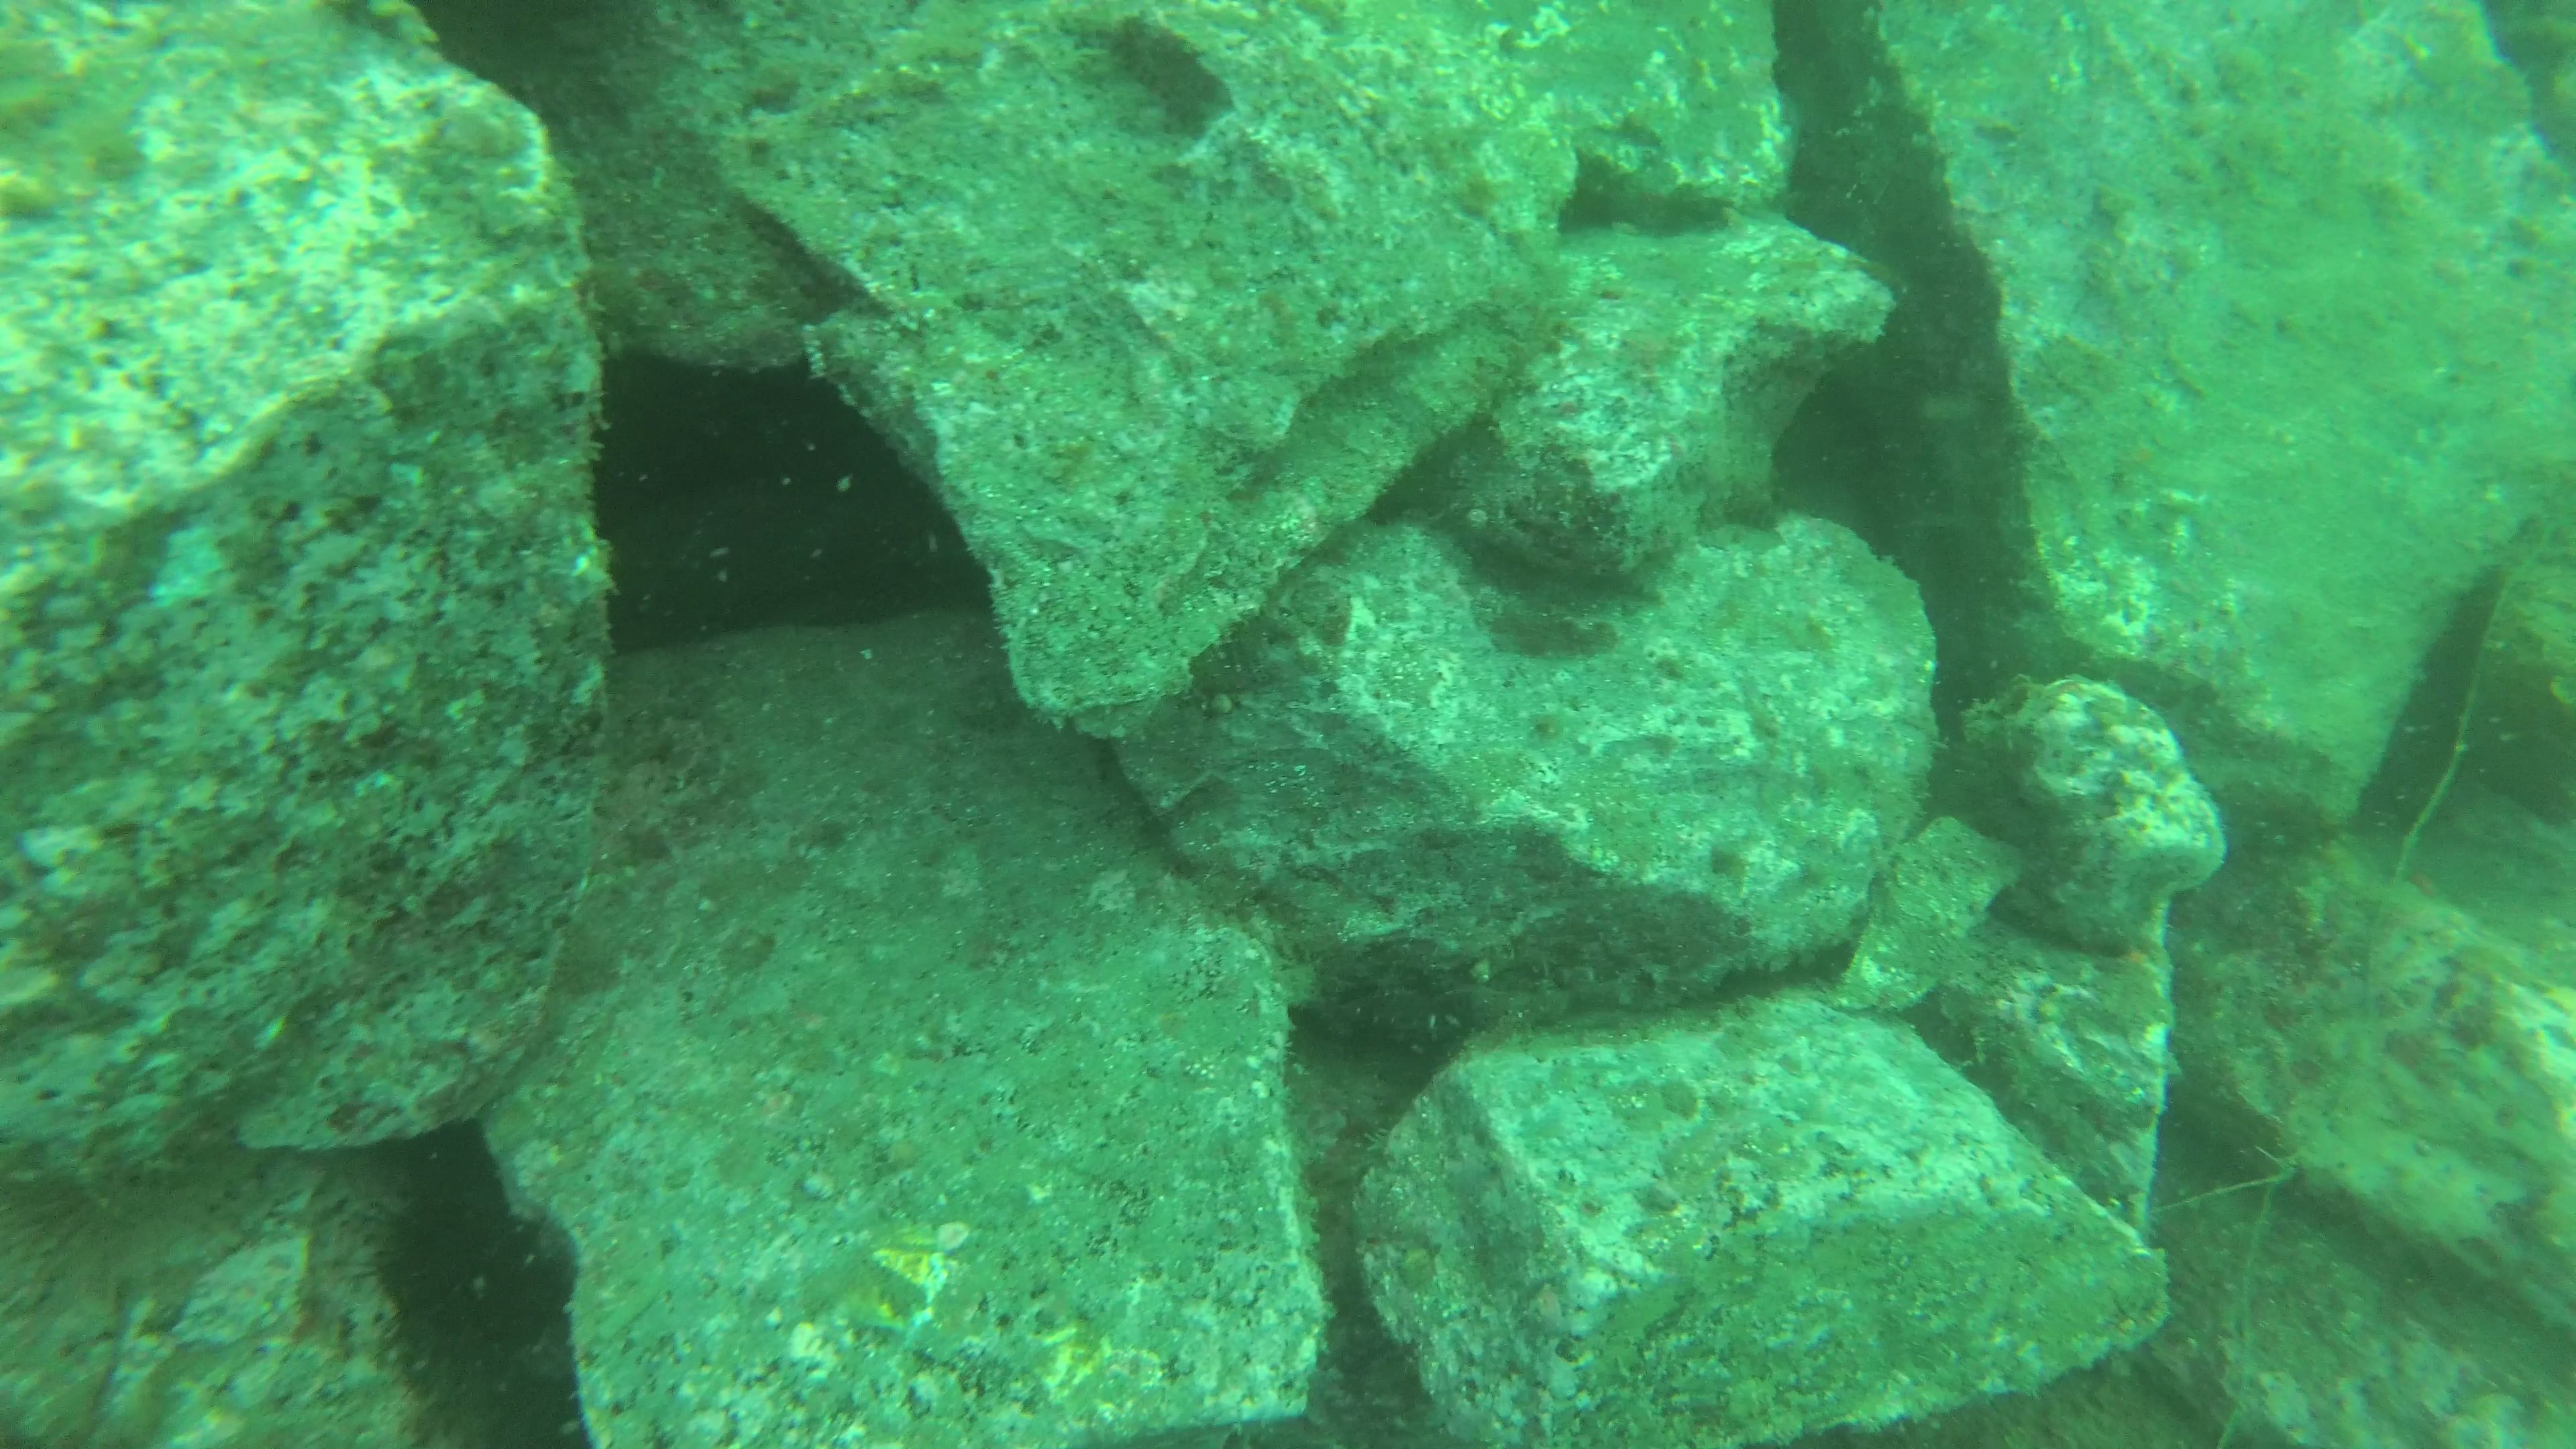echinus: (334, 1189, 605, 1353)
